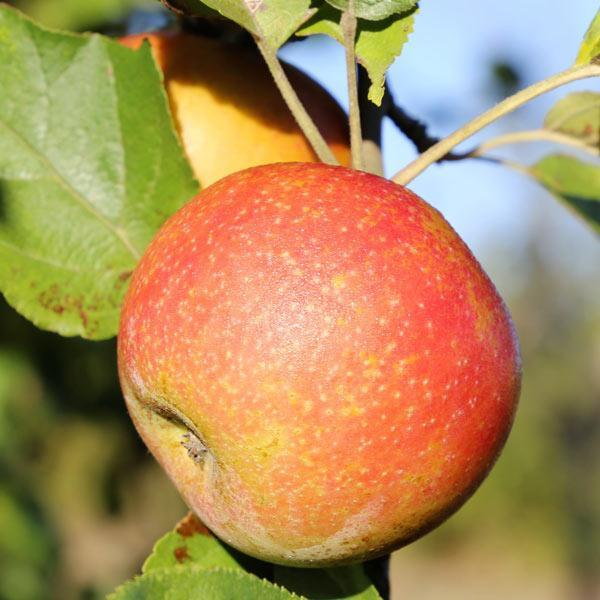apple: (117, 161, 528, 564)
